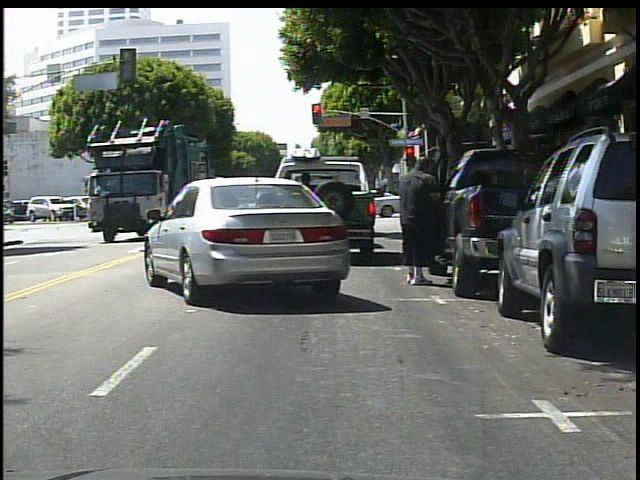person: (394, 152, 449, 290)
